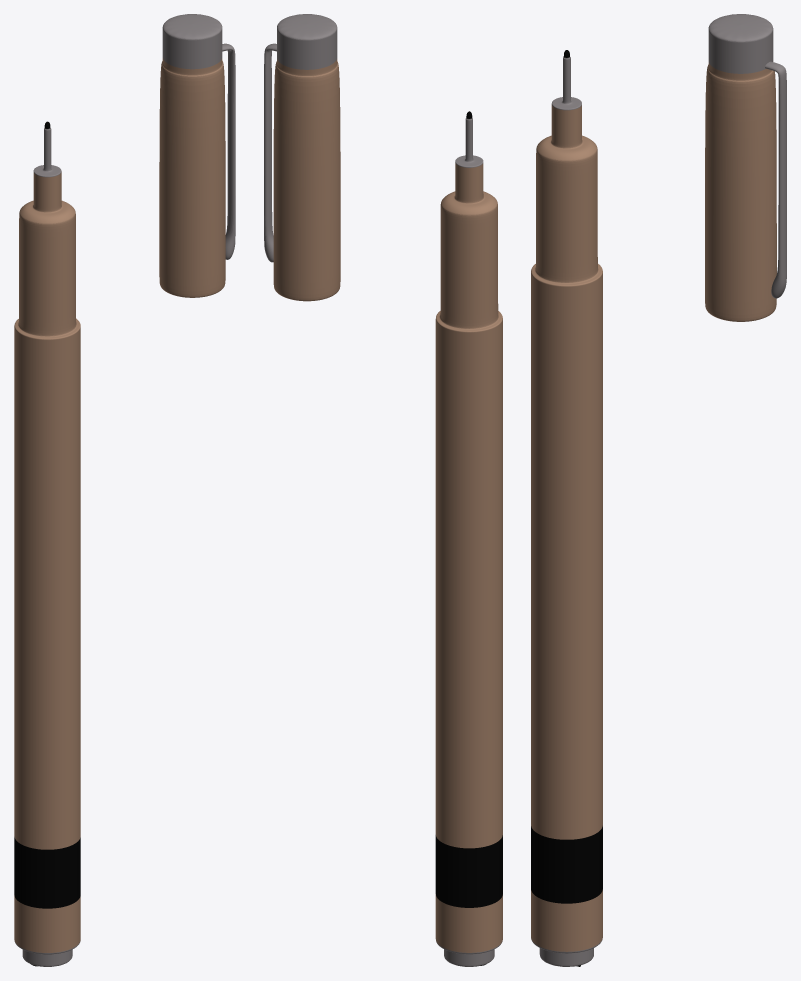
The model's file is stylo.fbx.
The picture shows the model from 3 angles, left to right: view 1: azimuth 30°, elevation 25°; view 2: azimuth 150°, elevation 25°; view 3: azimuth 330°, elevation 25°; orthographic projection. The views are drawn at different scales.
Visible parts, largest first — view 1: Cylinder, Cylinder.001, Cylinder.002; view 2: Cylinder, Cylinder.001, Cylinder.002; view 3: Cylinder, Cylinder.001, Cylinder.002.
Part boxes in pixels (<box>): Cylinder: <box>14,121,80,966</box>; Cylinder.001: <box>159,14,225,297</box>; Cylinder.002: <box>222,43,235,259</box>; Cylinder: <box>435,111,502,966</box>; Cylinder.001: <box>273,14,340,301</box>; Cylinder.002: <box>264,43,276,262</box>; Cylinder: <box>531,50,602,966</box>; Cylinder.001: <box>705,14,776,321</box>; Cylinder.002: <box>765,61,786,298</box>.
Size of the model in its own units: 3.78 by 14.48 by 1.2.
